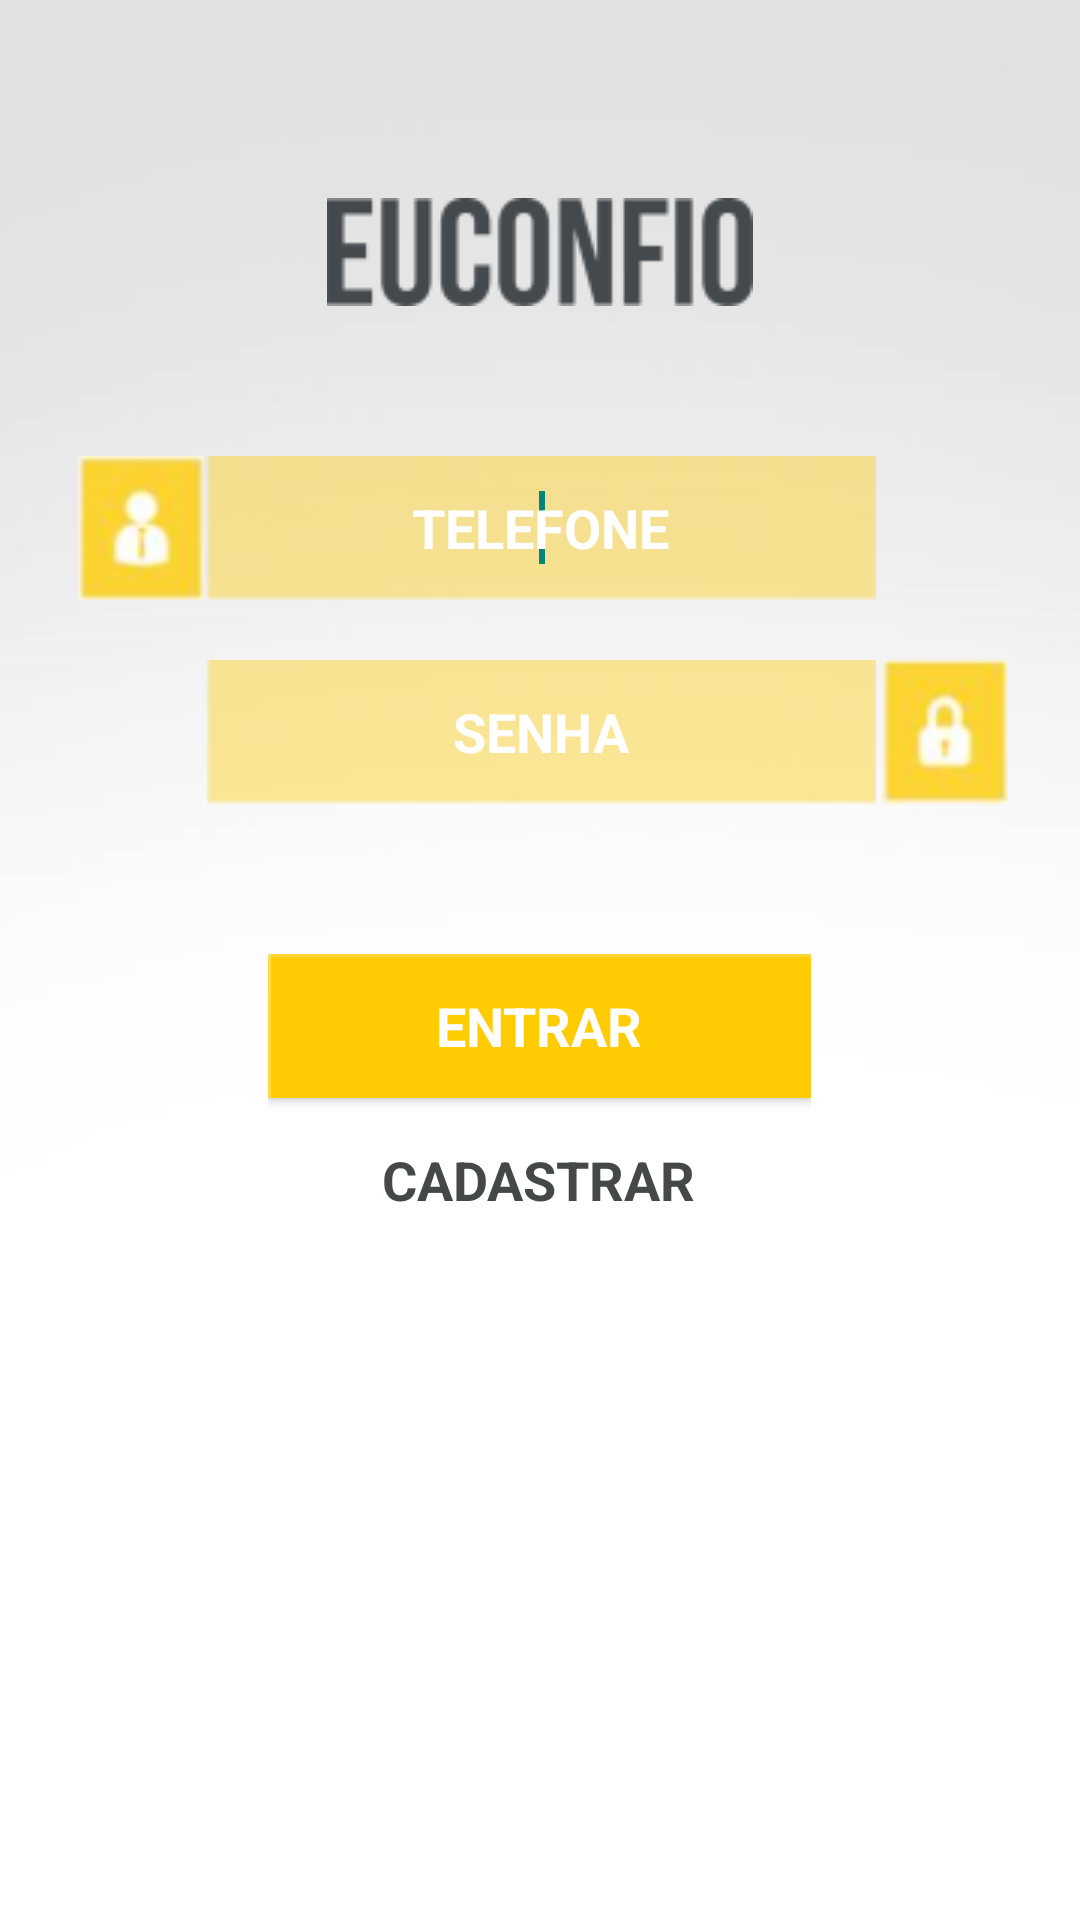

Named icons in this screenshot (1080 x 1920) and their bounding boxes, box(x1, y1, x2, y2):
lock: box(882, 660, 1008, 804)
person: box(78, 456, 204, 600)
